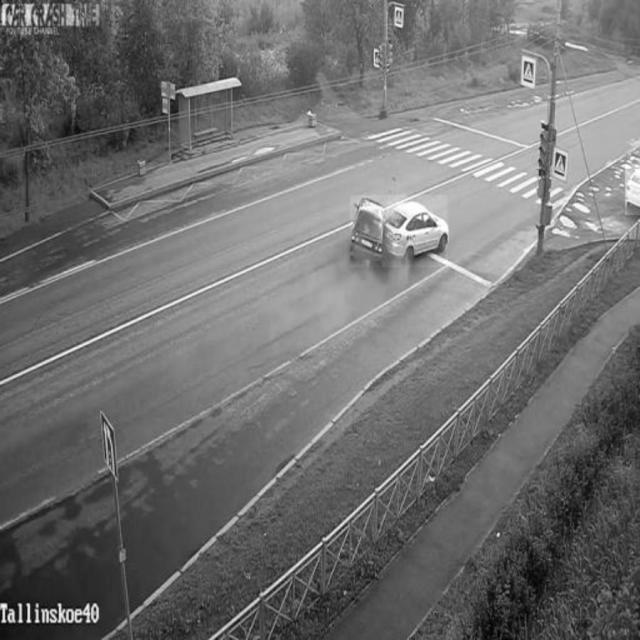accident: (350, 195, 448, 268)
vehicle: (625, 164, 640, 215)
